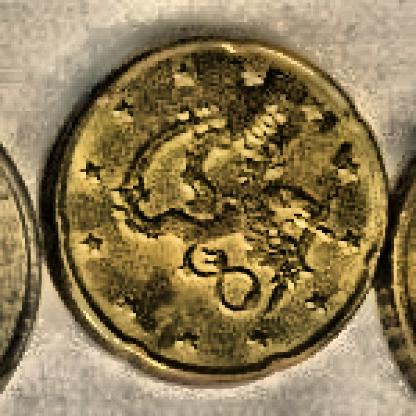coin: (46, 38, 394, 385)
